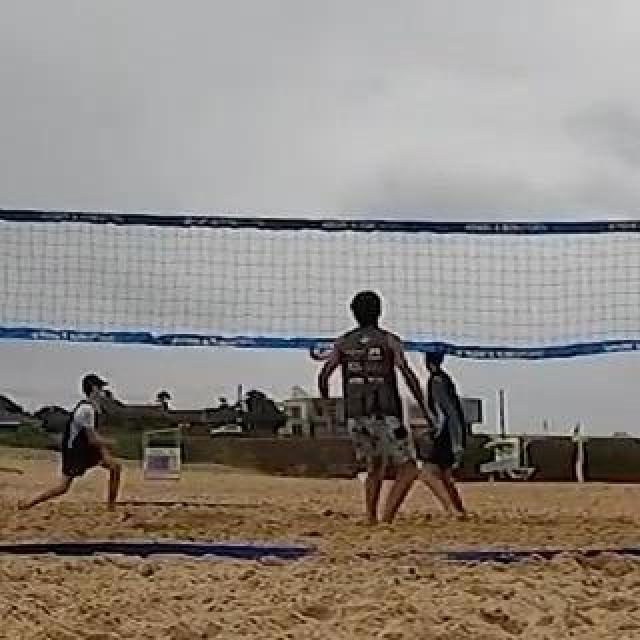volleyball: (310, 336, 338, 362)
